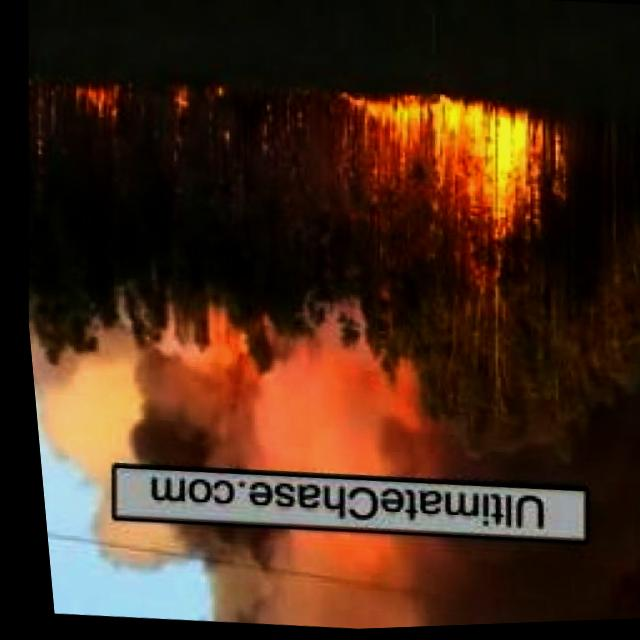helmet: (344, 94, 532, 248), (161, 79, 232, 151), (207, 337, 254, 402), (71, 77, 123, 116)
no_helmet: (58, 229, 640, 510), (79, 500, 640, 639)
